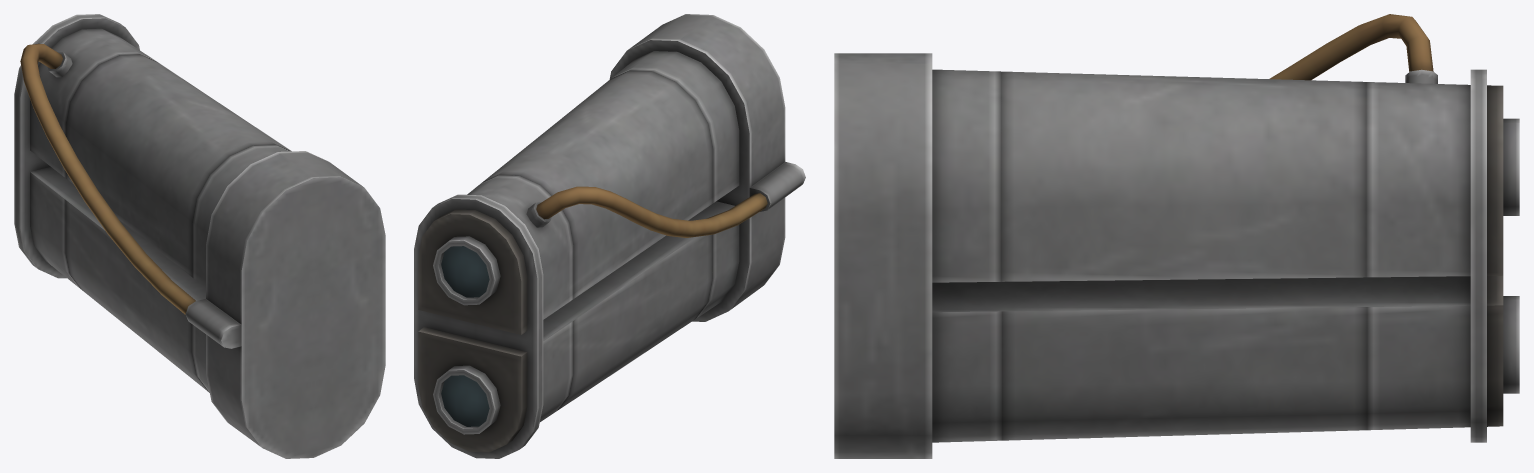
File: grus_sensor_infrared_camera.obj
3 renders of one model, left to right at view 1: azimuth 30°, elevation 25°; view 2: azimuth 150°, elevation 25°; view 3: azimuth 270°, elevation 25°, orthographic. The views are drawn at different scales.
Visible parts, largest first — view 1: 2; view 2: 2, g2; view 3: 2.
Part boxes in pixels (x1=…): 2: x1=14, y1=14, x2=385, y2=458; 2: x1=414, y1=14, x2=805, y2=458; g2: x1=441, y1=246, x2=489, y2=426; 2: x1=834, y1=14, x2=1519, y2=458.
Size of the model in its own units: 0.2088 by 0.325 by 0.525.
2 materials, 2 textured.
